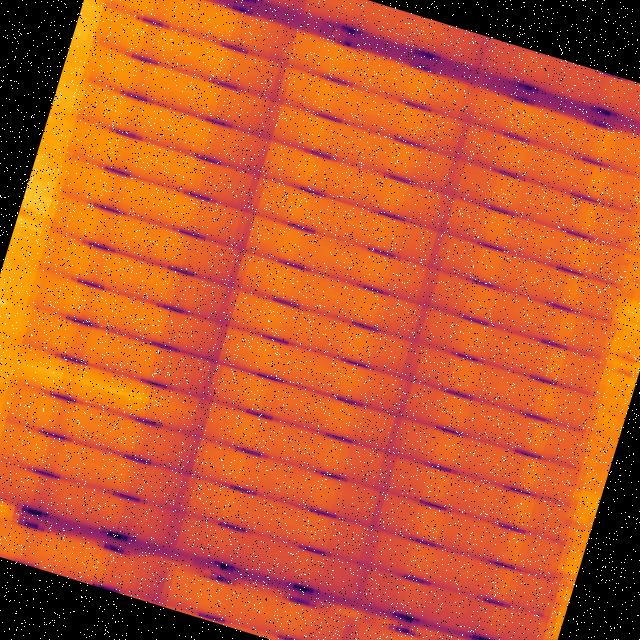Hotspot: (11, 344, 180, 426)
